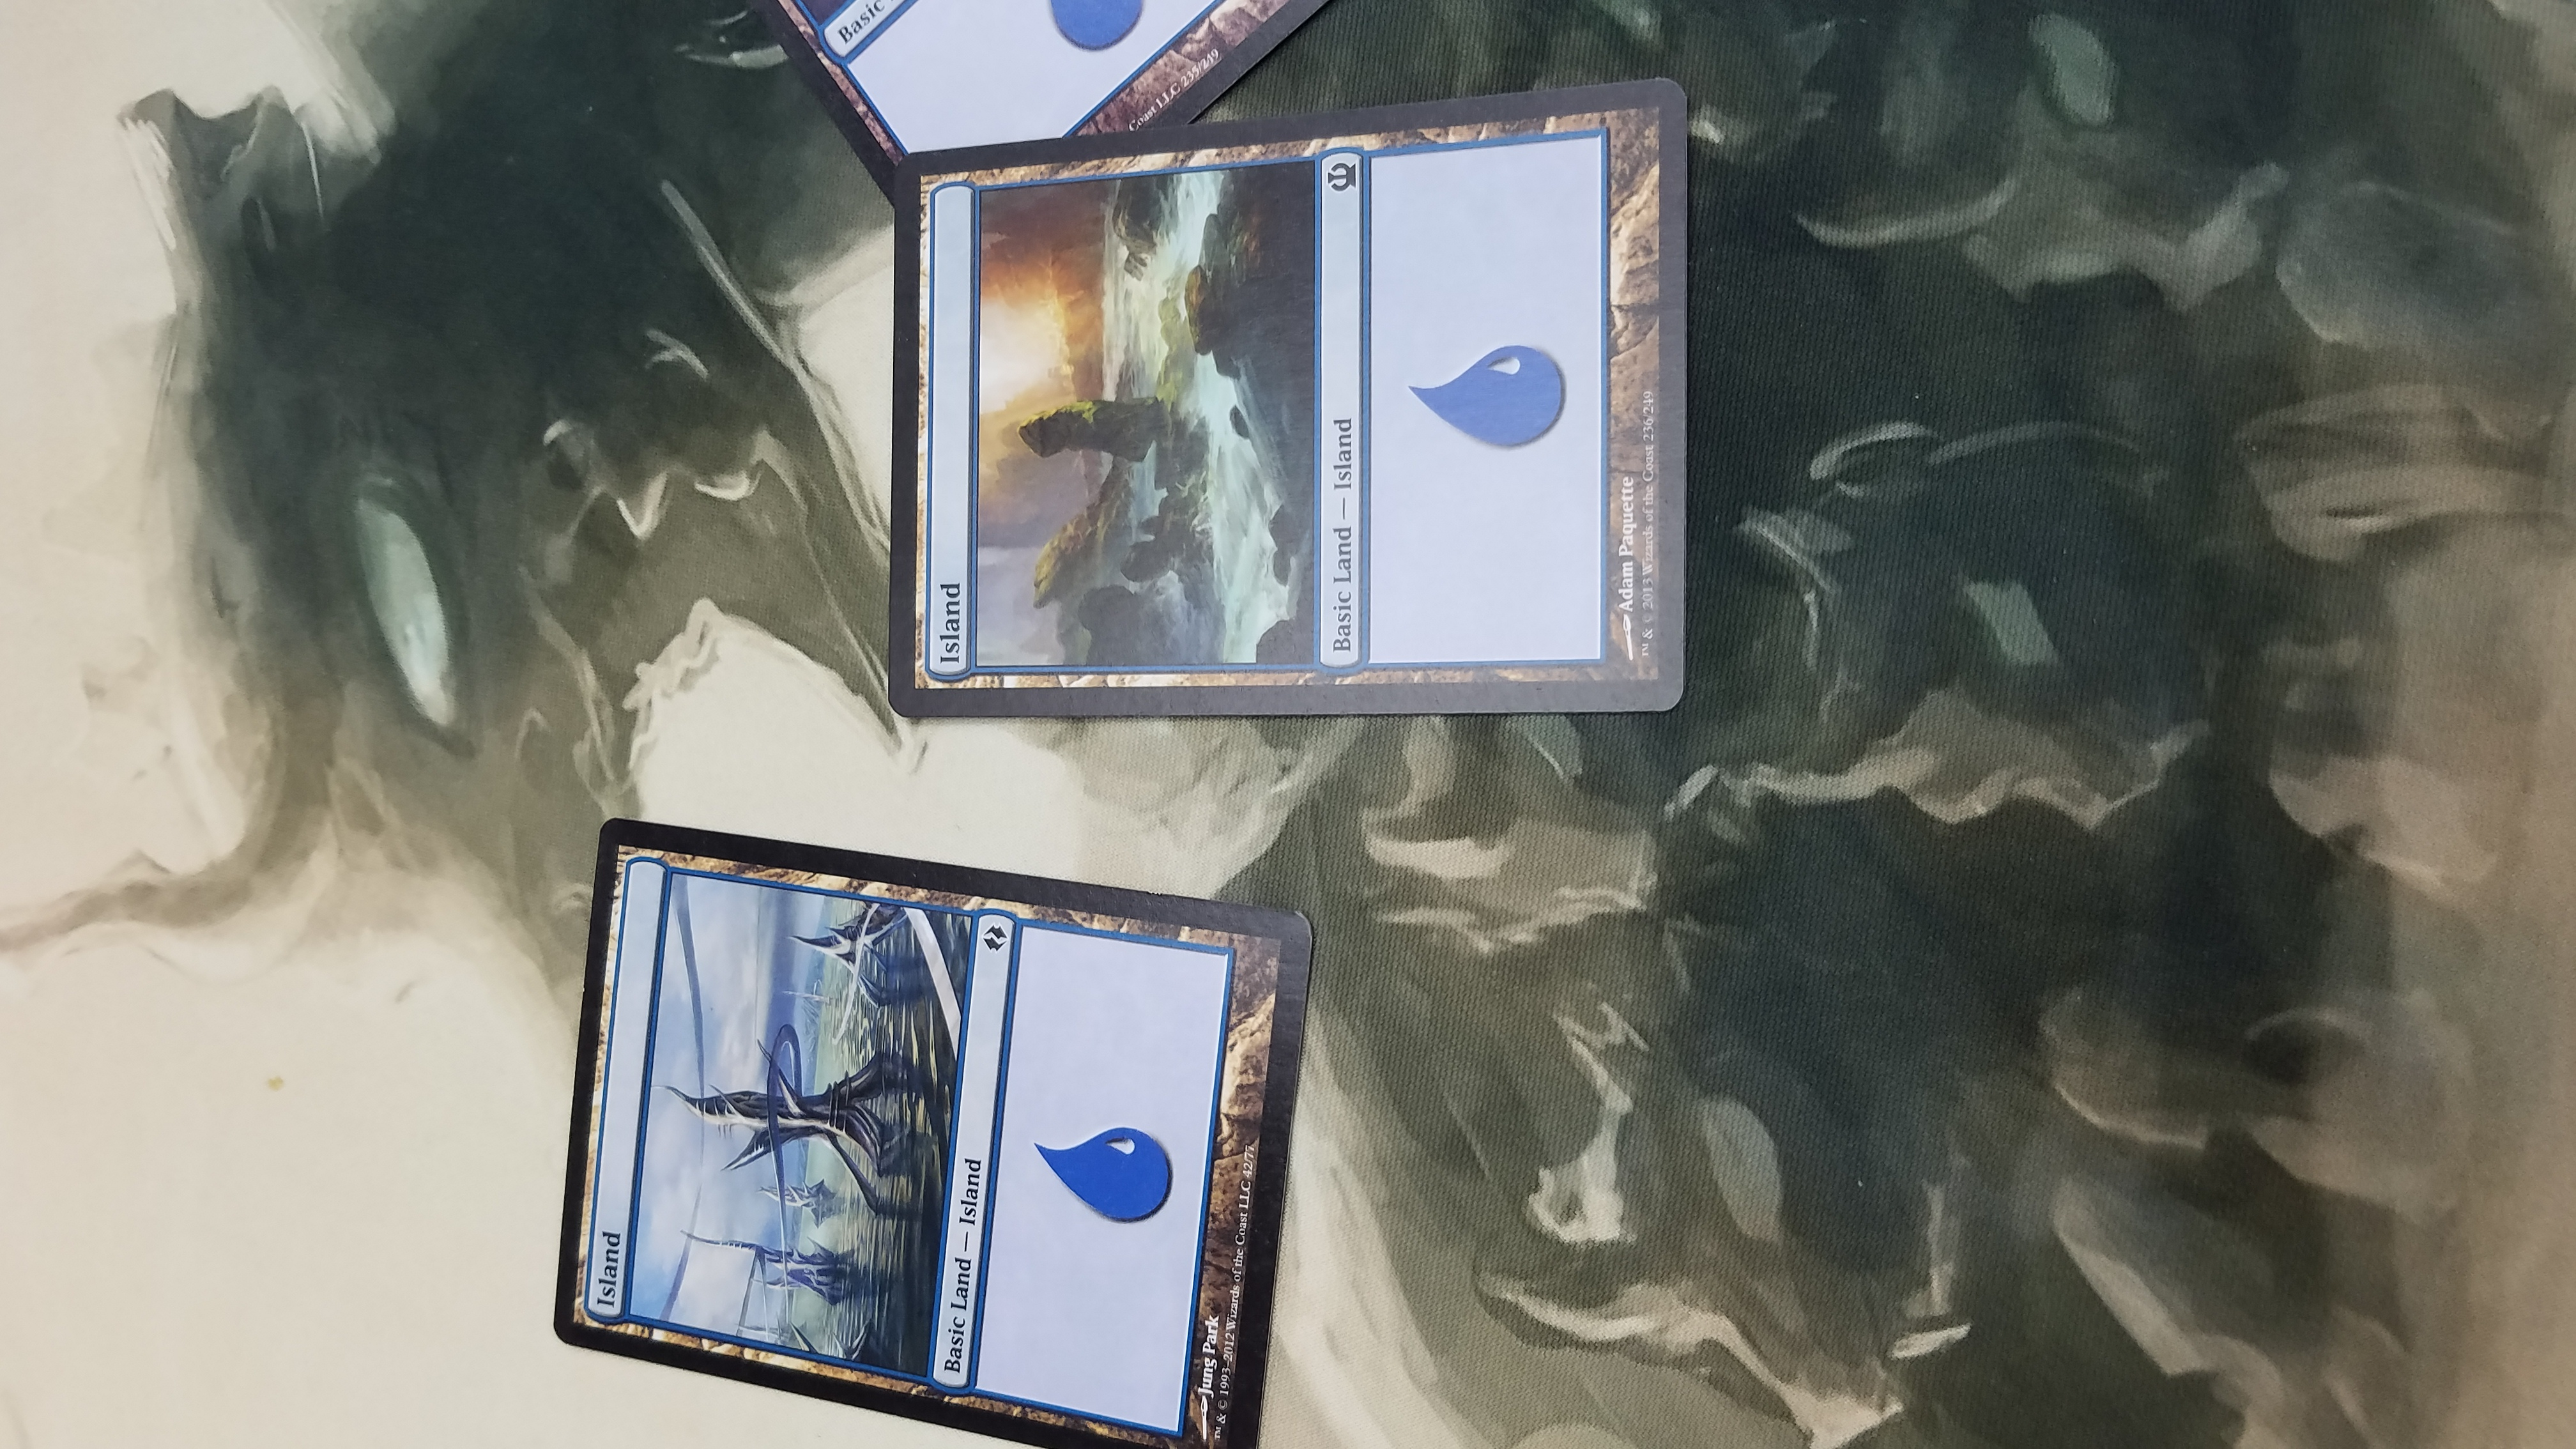Card: (886, 65, 1709, 729), (547, 816, 1325, 1449)
